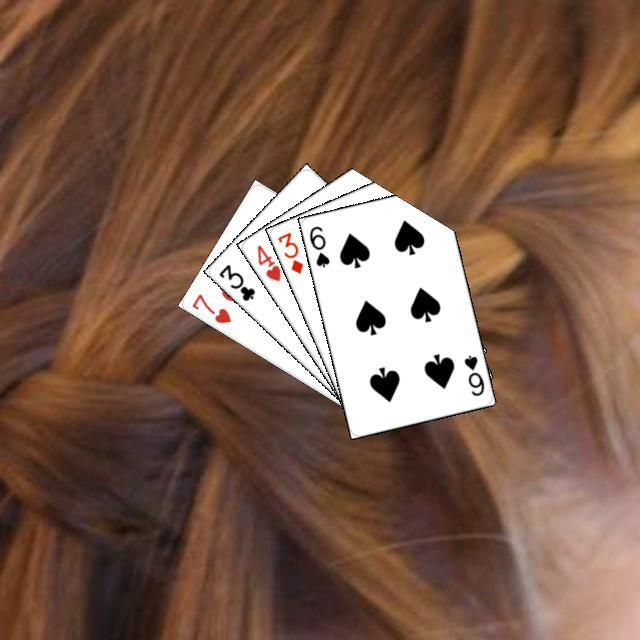3c: (213, 259, 257, 303)
3d: (273, 227, 305, 276)
4h: (252, 240, 283, 283)
6s: (304, 221, 331, 269), (459, 350, 486, 398)
7h: (187, 289, 233, 325)
